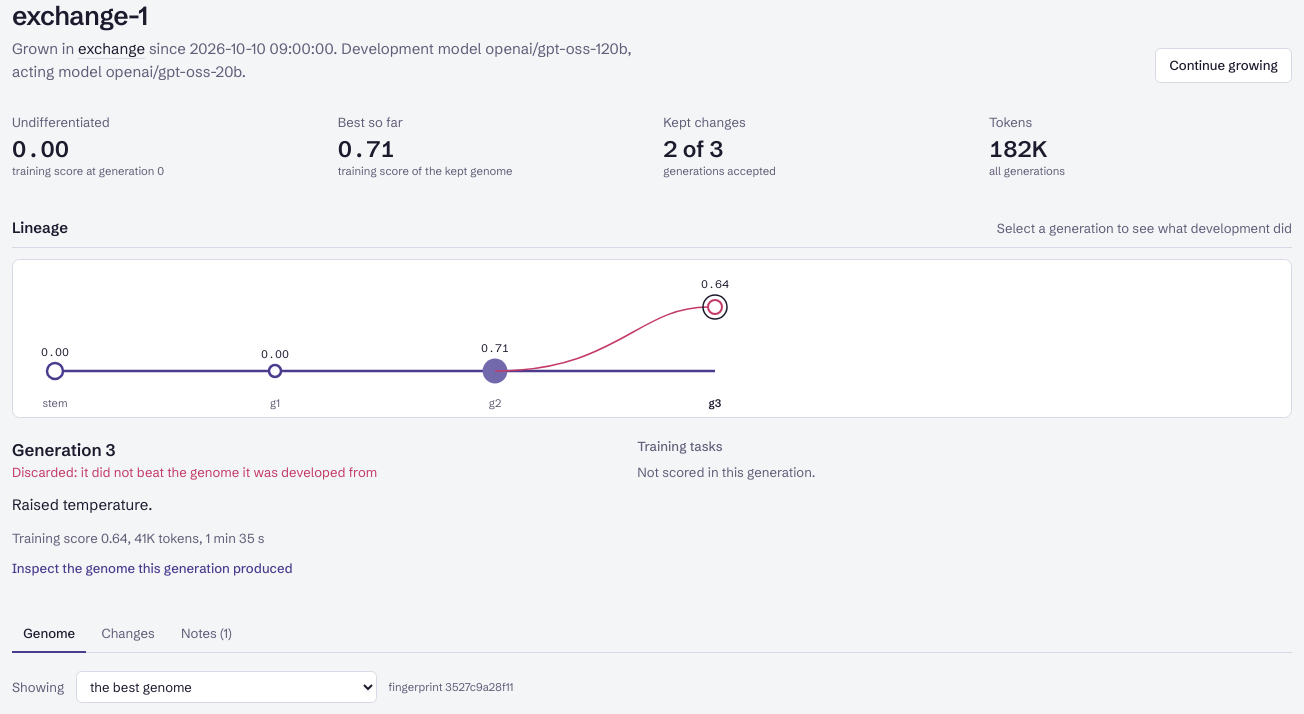
Test case: RunPage › shows the grown genome and a discarded candidate
Click the button "Inspect the genome this generation produced": x=152, y=568 x1=12 y1=559 x2=293 y2=578
(page scrolled)
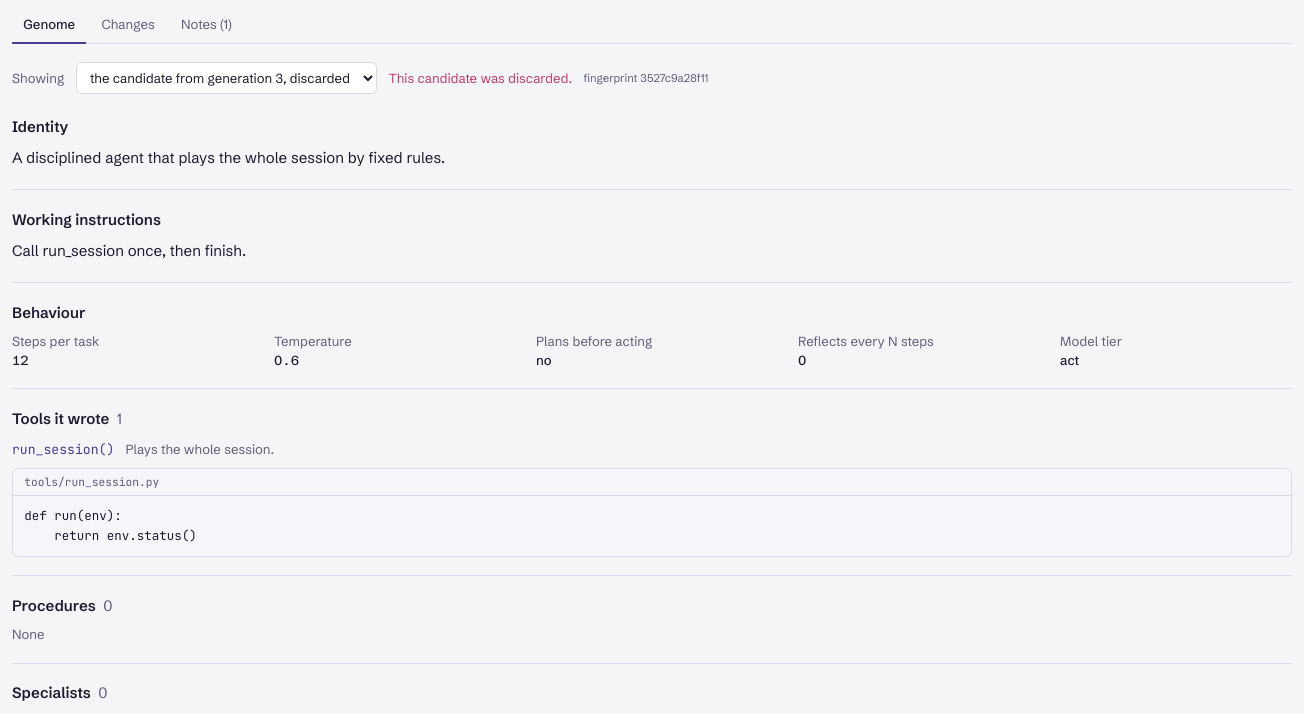
Check: the text "This candidate was discarded." is shown, box x1=388 y1=69 x2=572 y2=88
Check: the text "0.6" is shown, box x1=274 y1=352 x2=299 y2=368
